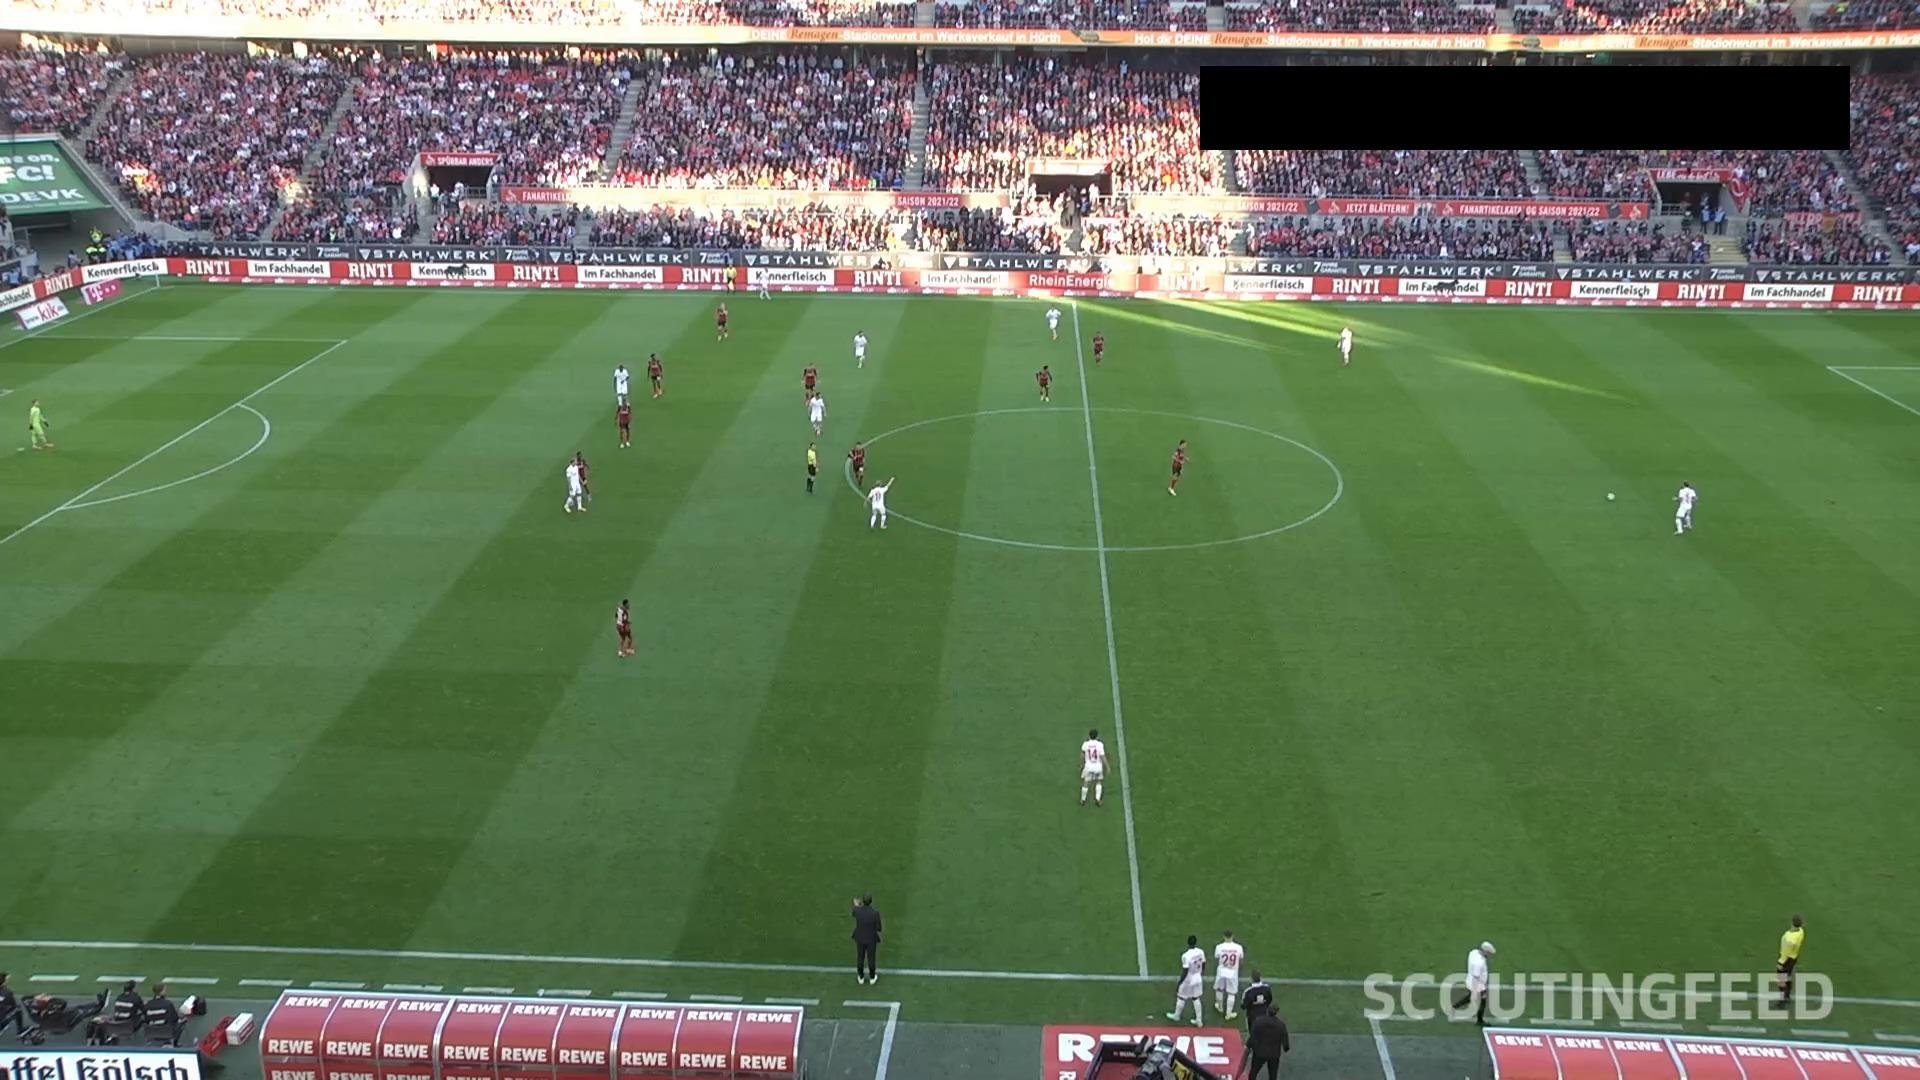ball: (1605, 492, 1617, 502)
